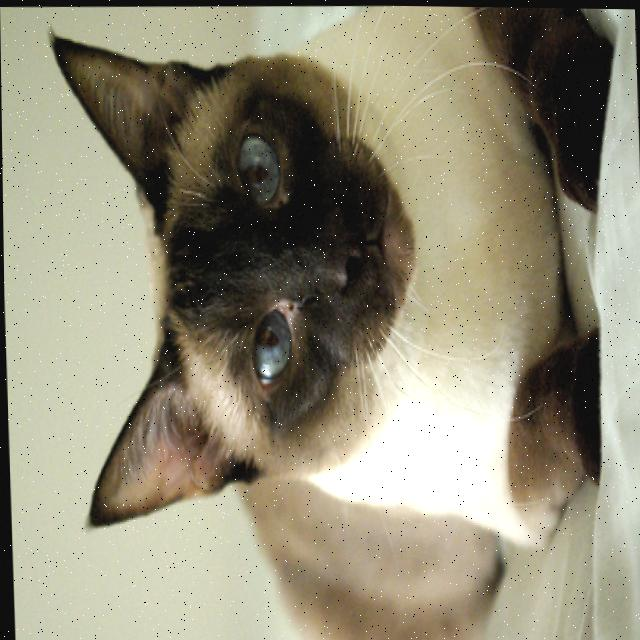Siamese: (46, 1, 634, 640)
